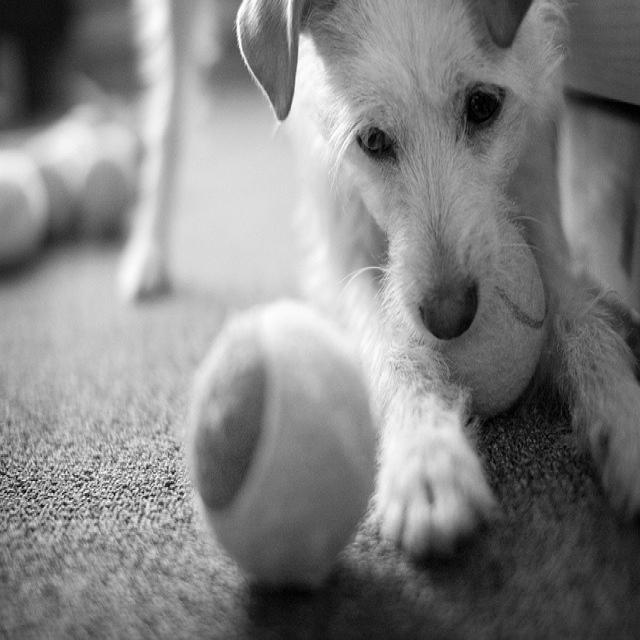dog: (240, 3, 639, 555)
